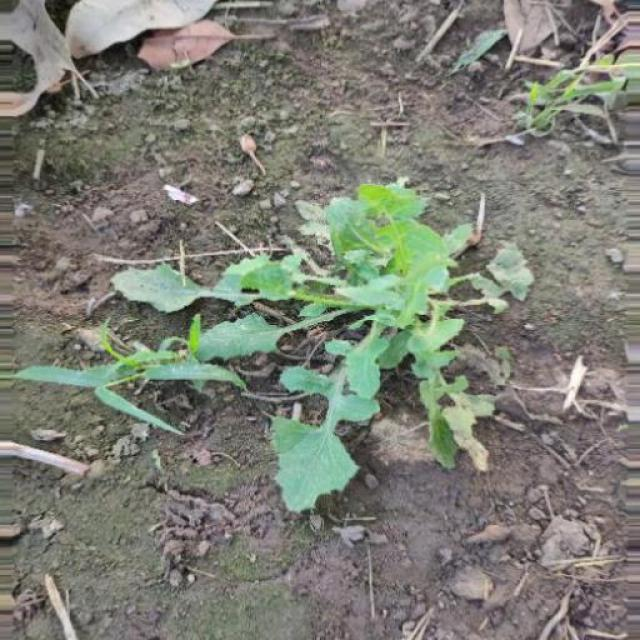crop: (101, 185, 531, 500)
